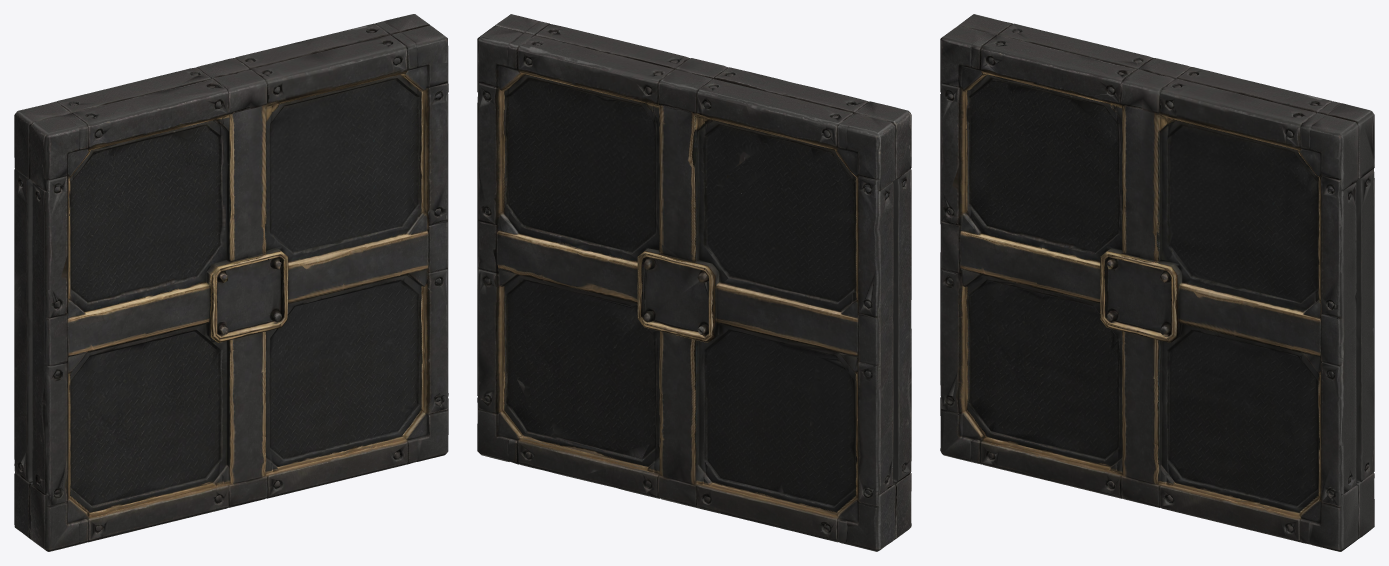
The model's file is metal_vault_panel.glb.
3 views of the same model, side by side, from view 1: azimuth 30°, elevation 25°; view 2: azimuth 150°, elevation 25°; view 3: azimuth 330°, elevation 25° (orthographic).
Bounding box in the file's own units: 0.9793 × 0.9721 × 0.1746.
1 material, 1 textured.
